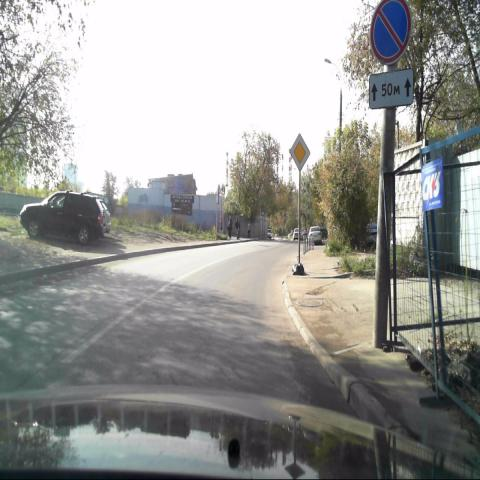3_28: (368, 0, 411, 63)
